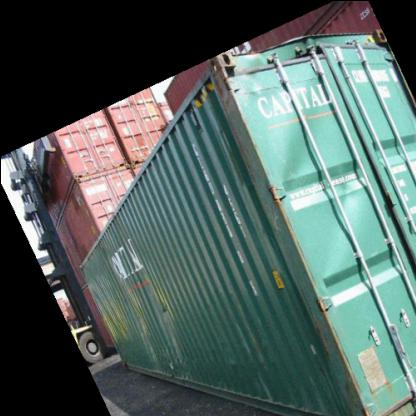Damage: (210, 36, 397, 186), (75, 241, 188, 369)
